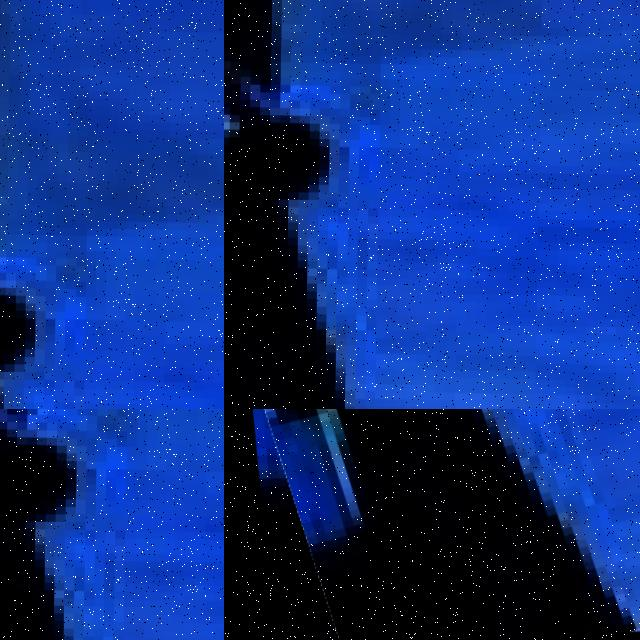drone: (224, 409, 640, 640)
